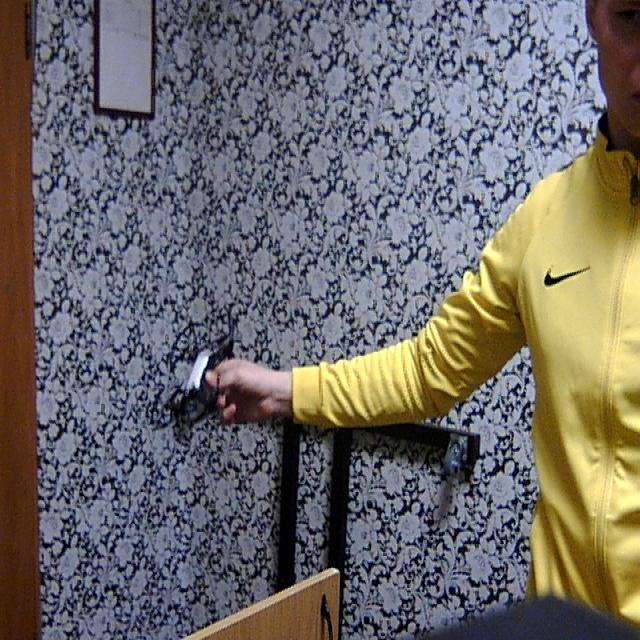drone: (132, 316, 259, 443)
